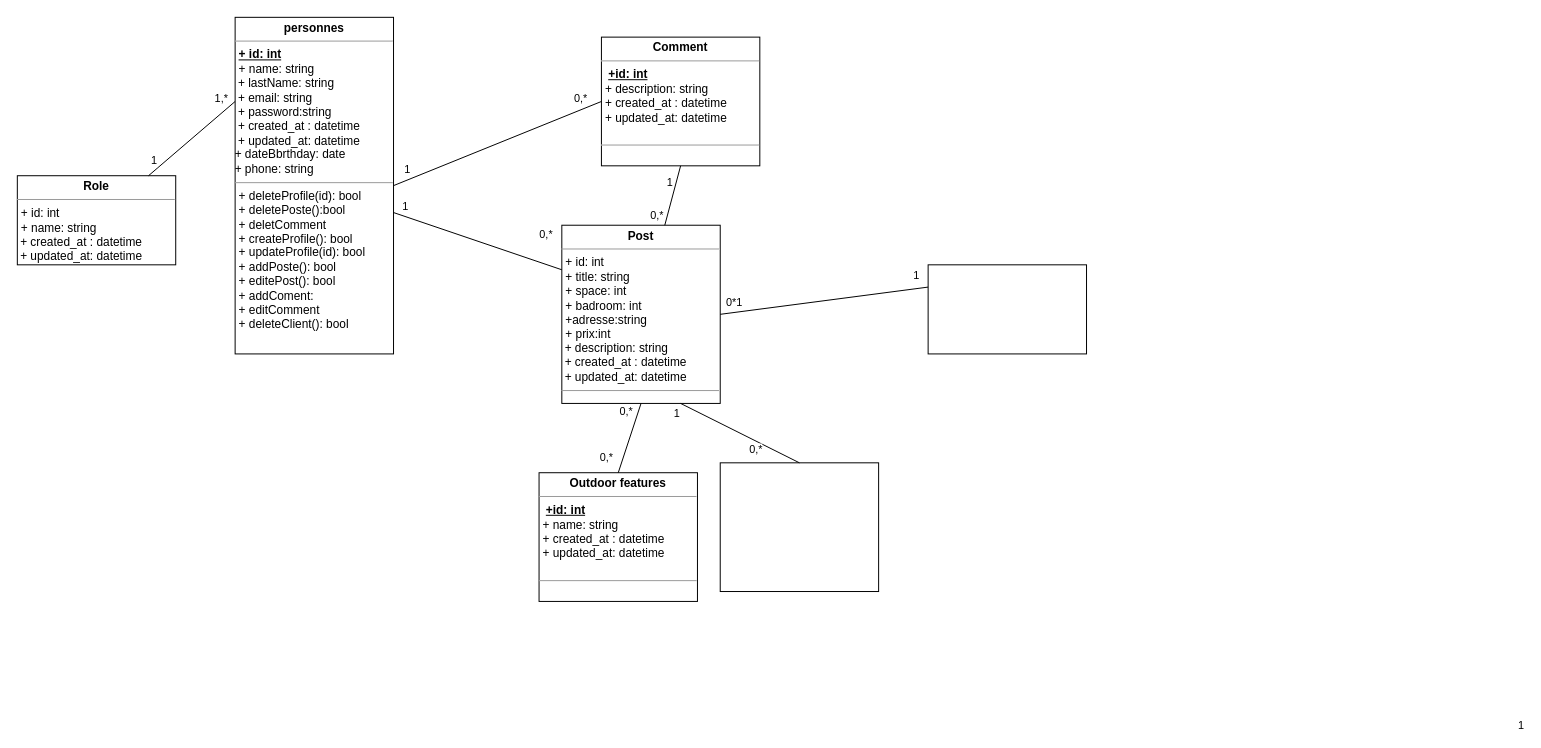
Some shapes in this 1541 by 748 pixel diagram are drawn without their labels. Here are the shapes that lost their labels. From the top down, the box of each, then its label:
(927, 264, 1087, 354): Type + id: int + name: string + created_at : datetime + updated_at: datetime
(719, 462, 879, 592): image +id: int + path: string + created_at : datetime + updated_at: datetime
